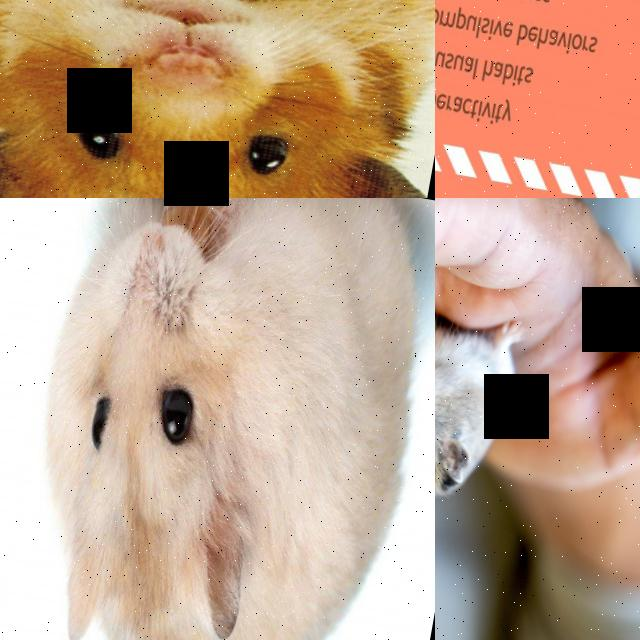hamster: (0, 198, 435, 640), (0, 0, 435, 198), (435, 284, 531, 547)
